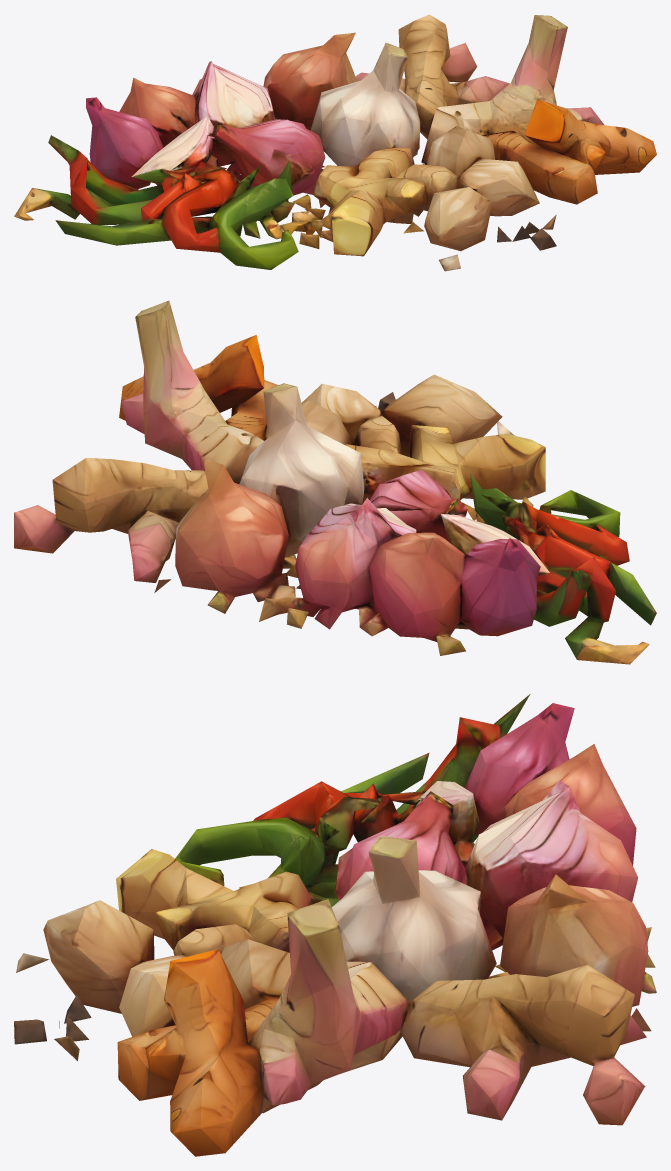
File: rempah.glb
3 views of the same model, one above another, from view 1: azimuth 30°, elevation 25°; view 2: azimuth 150°, elevation 25°; view 3: azimuth 270°, elevation 25° (orthographic). The views are drawn at different scales.
Visible parts, largest first — view 1: model; view 2: model; view 3: model.
Part boxes in pixels (box(x1,y1,x2,y2)): model: box(14, 14, 656, 271); model: box(14, 300, 656, 664); model: box(14, 694, 656, 1156).
Size of the model in its own units: 1.68 by 0.4233 by 1.15.
Materials: 1 (1 with a texture image).
